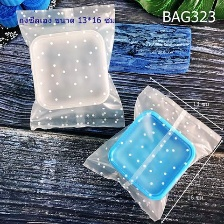snack: (77, 79, 223, 224), (10, 0, 133, 134)
